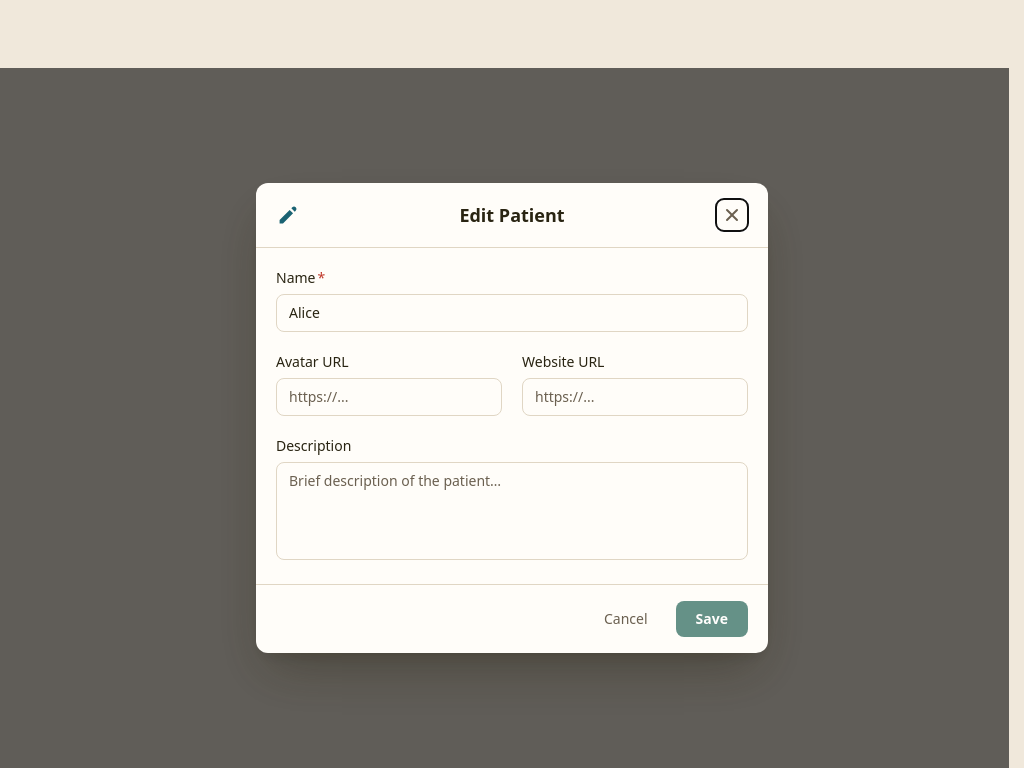
Scenario: PatientFormModal — edit mode › Save enables after a field is modified
This screenshot has width=1024, height=768.
Clear the field labelled "Name*" at (512, 313), box [276, 294, 748, 332]
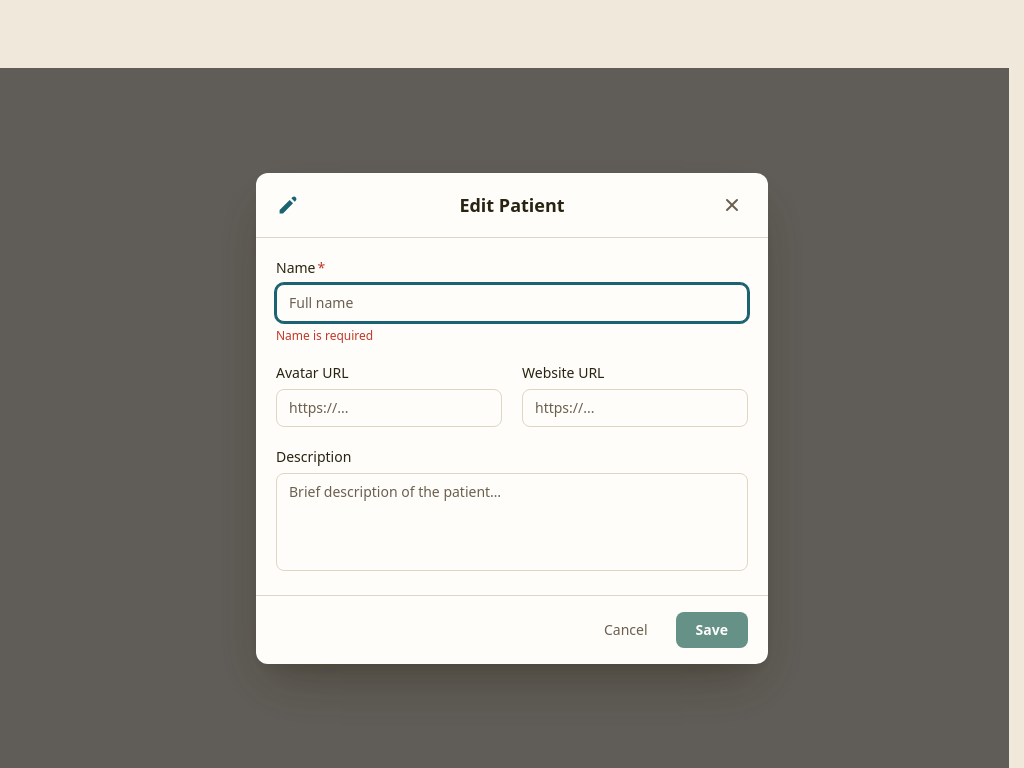
Type "Alice Updated" into the field labelled "Name*".
click(512, 302); type("Alice Updated")  # box [276, 284, 748, 322]
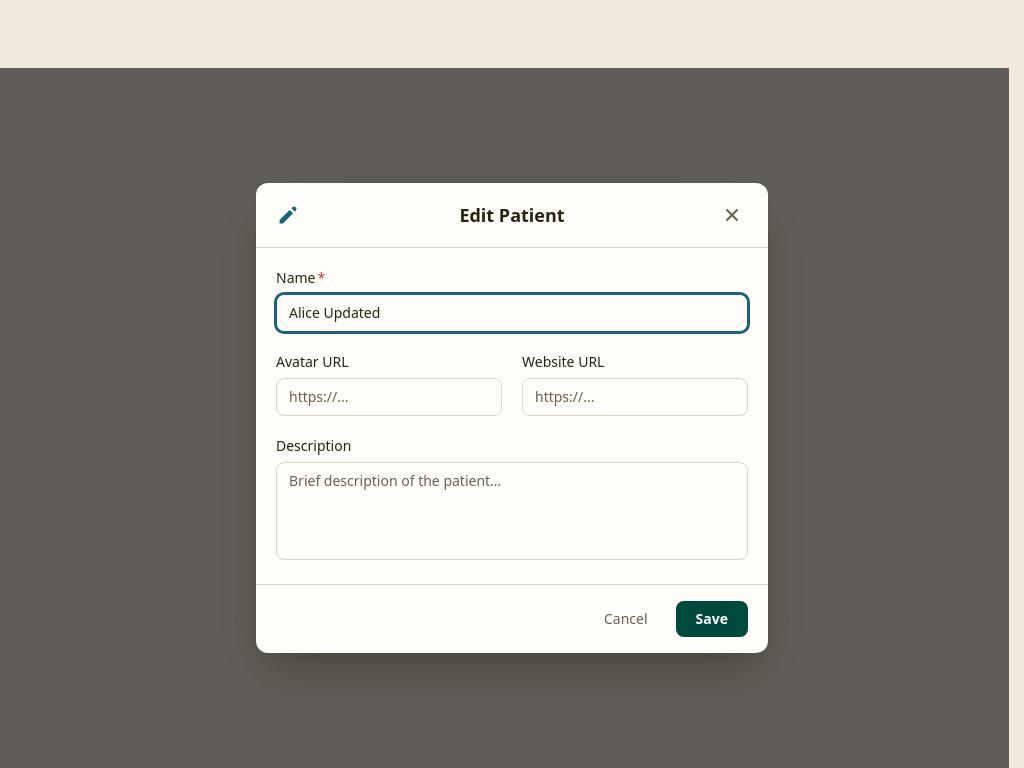
Expected: the button "Save" is enabled, [676, 601, 748, 637]
